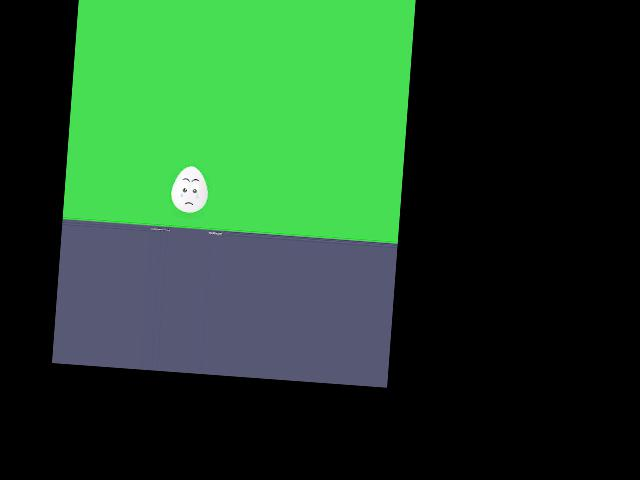egg: (169, 165, 209, 213)
